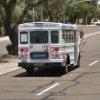Bus: (13, 17, 82, 79)
